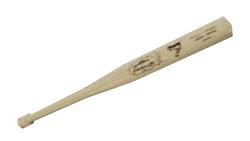baseball bat: (18, 15, 234, 130)
